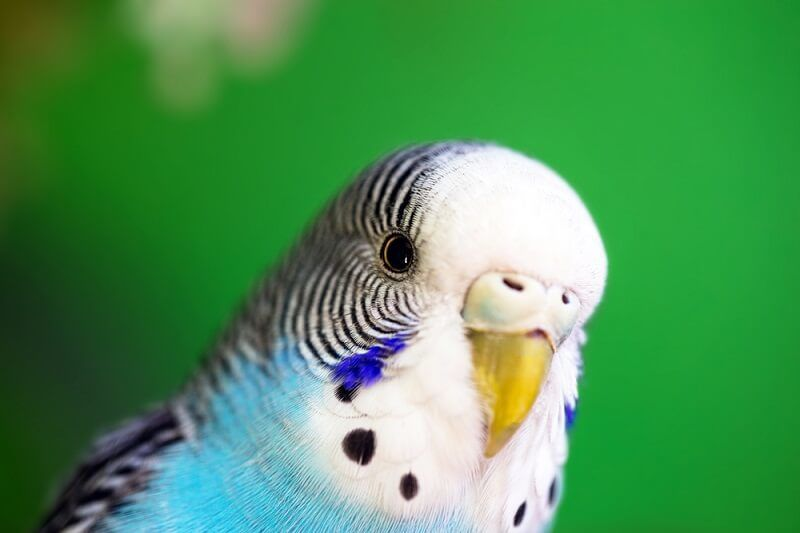budgie: (35, 133, 620, 533)
